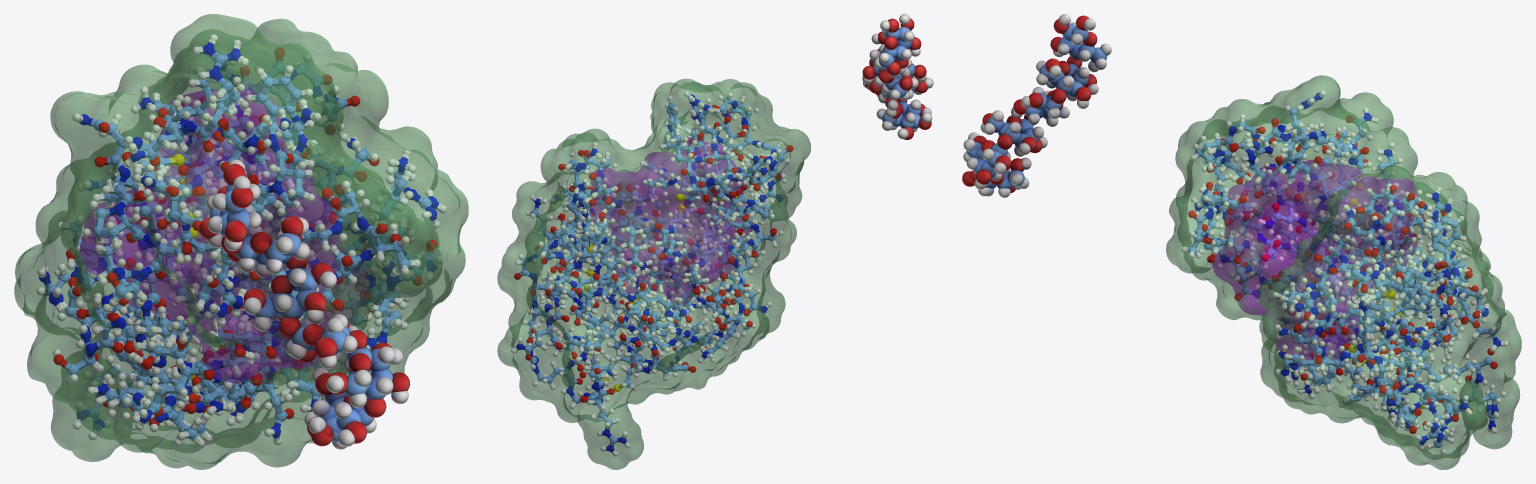
The picture shows the model from 3 angles, left to right: view 1: azimuth 30°, elevation 25°; view 2: azimuth 150°, elevation 25°; view 3: azimuth 270°, elevation 25°; orthographic projection. The views are drawn at different scales.
Parts seen in each view (by area): view 1: NewMolecule.004, NewMolecule.002, NewMolecule.003, NewMolecule.005, NewMolecule.006; view 2: NewMolecule.004, NewMolecule.002, NewMolecule.003, NewMolecule.005, NewMolecule.006; view 3: NewMolecule.004, NewMolecule.002, NewMolecule.003, NewMolecule.005, NewMolecule.006.
Part boxes in pixels (<box>): NewMolecule.004: <box>14,14,468,469</box>; NewMolecule.002: <box>36,34,446,447</box>; NewMolecule.003: <box>79,86,349,383</box>; NewMolecule.005: <box>199,159,336,333</box>; NewMolecule.006: <box>281,314,409,449</box>; NewMolecule.004: <box>497,78,810,469</box>; NewMolecule.002: <box>511,91,793,456</box>; NewMolecule.003: <box>589,137,751,304</box>; NewMolecule.005: <box>862,14,921,100</box>; NewMolecule.006: <box>863,59,933,139</box>; NewMolecule.004: <box>1166,75,1521,469</box>; NewMolecule.002: <box>1181,90,1508,454</box>; NewMolecule.003: <box>1212,160,1417,367</box>; NewMolecule.005: <box>1011,14,1111,128</box>; NewMolecule.006: <box>962,110,1047,197</box>.
Size of the model in its own units: 0.4143 by 0.4872 by 0.6542.
Materials: 4 (2 with a texture image).
